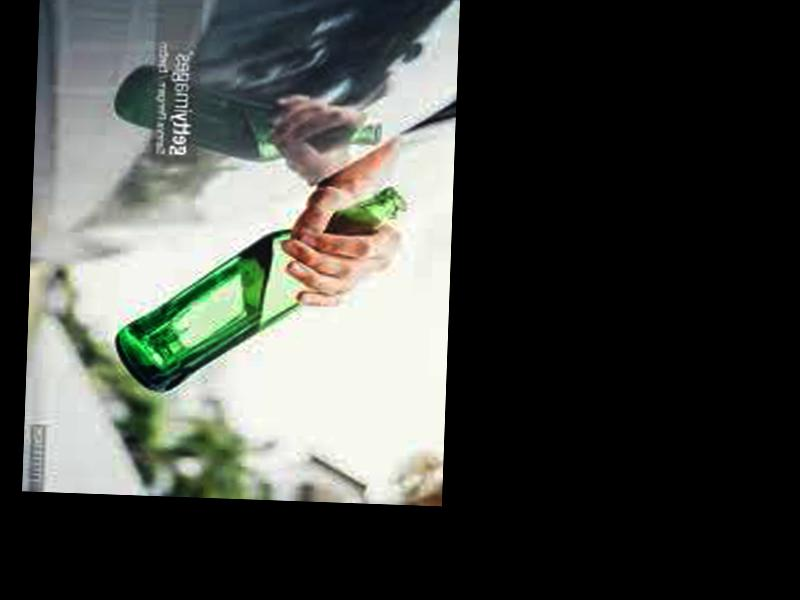Beer: (114, 174, 402, 400)
